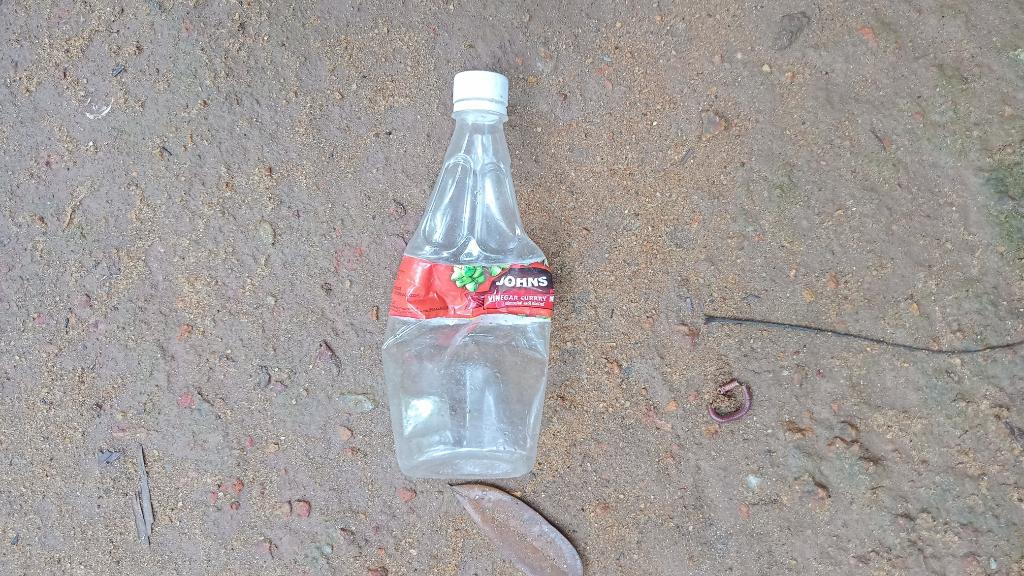garbage: (364, 55, 579, 490)
